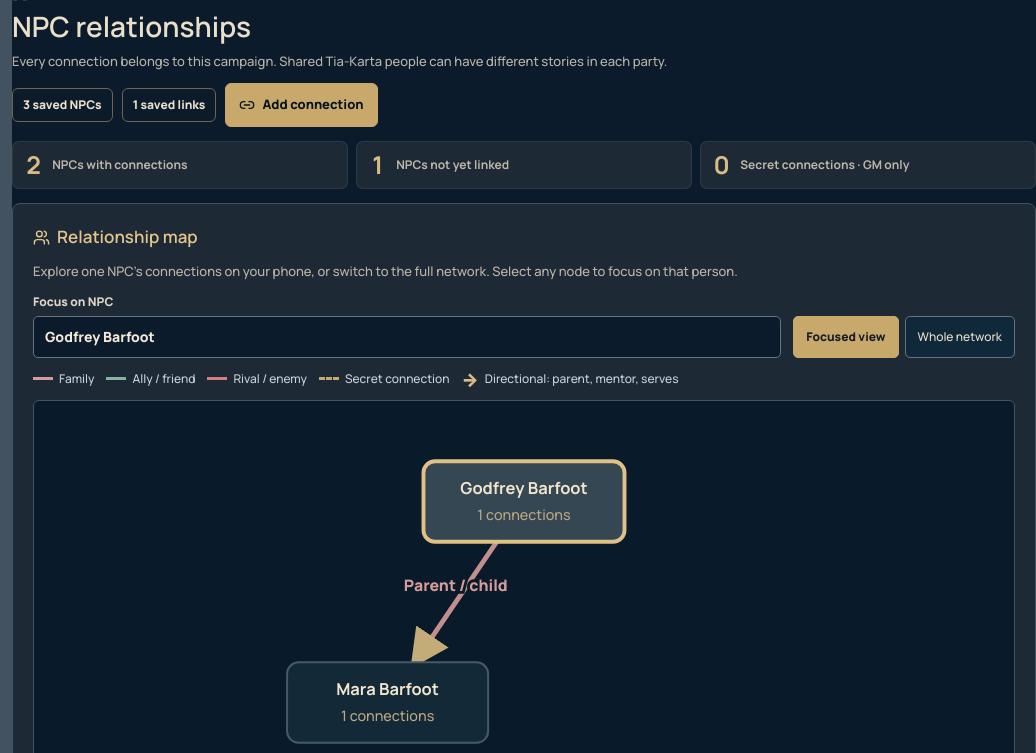
Scenario: phone map offers a readable focus selector, links and a full-network switch
The image size is (1036, 753).
expect the text "1 saved links" is shown: met, box [122,88,216,122]
expect the dropdown named "Focus relationship map on NPC" shows "Godfrey Barfoot": met, box [33,316,781,358]
Click the button "Whole network" at {"x": 960, "y": 337}, box [904,316,1015,358]
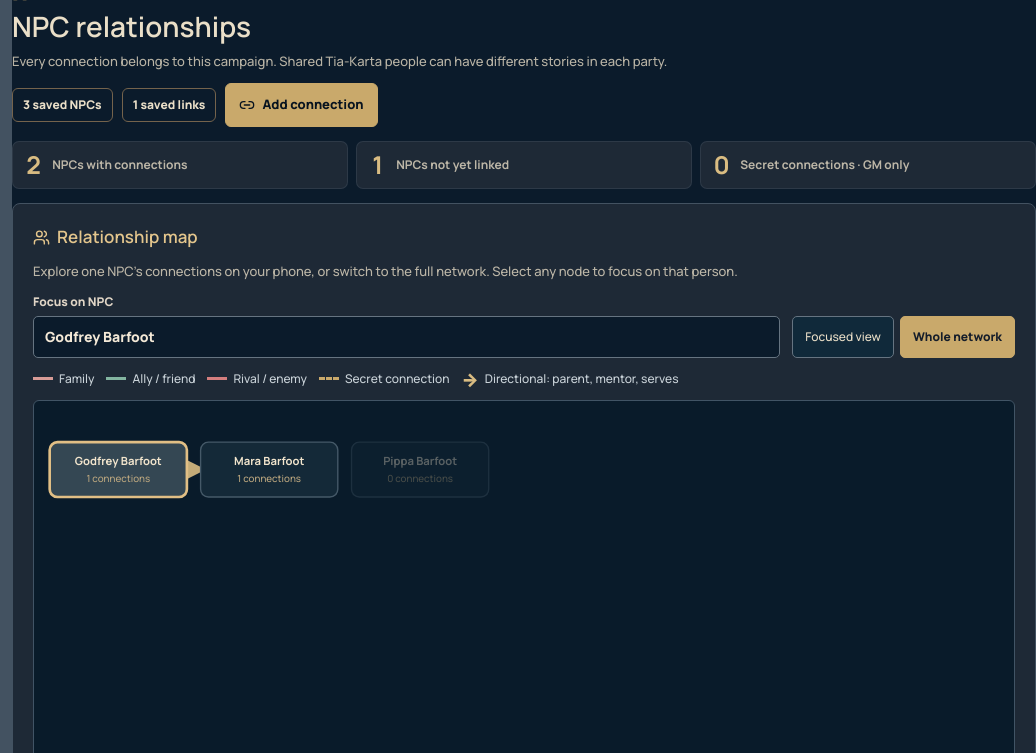
Select "Mara Barfoot" in the dropdown named "Focus relationship map on NPC" at {"x": 407, "y": 337}, box [33,316,780,358]
(page scrolled)
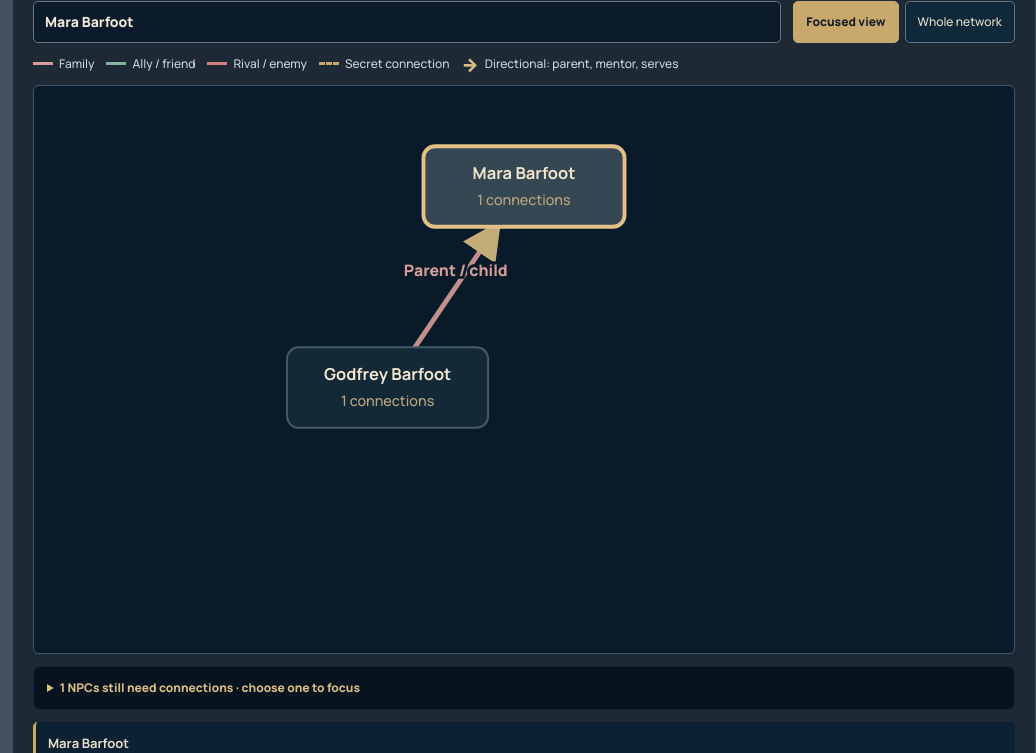
expect the icon named "Relationship network focused on Mara Barfoot" is shown: met, box [244,86,804,653]
